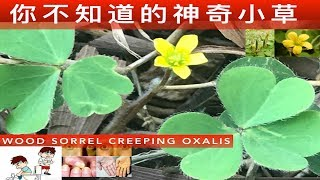oxalis: (2, 21, 122, 133), (203, 61, 310, 180)
